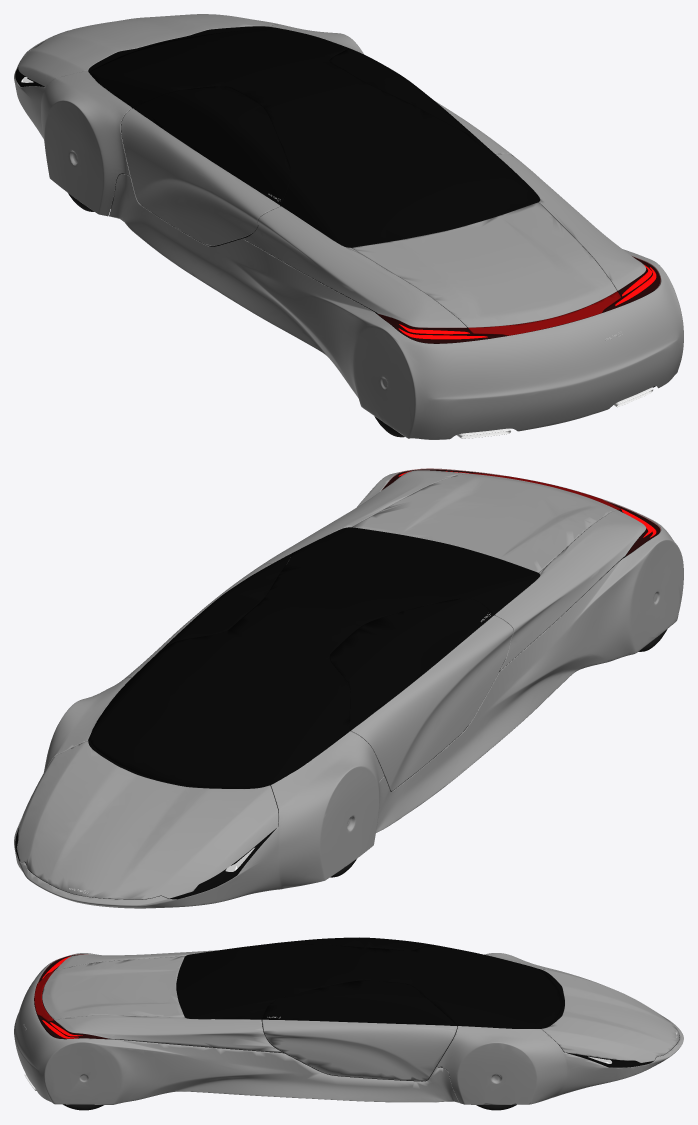
3 renders of one model, top to bottom at view 1: azimuth 30°, elevation 25°; view 2: azimuth 150°, elevation 25°; view 3: azimuth 270°, elevation 25°, orthographic. The views are drawn at different scales.
Parts seen in each view (by area): view 1: Object_11, Object_17, Object_6, Object_8, Object_7, Object_4; view 2: Object_11, Object_17, Object_7, Object_9, Object_6; view 3: Object_11, Object_17, Object_7, Object_6, Object_8, Object_9, Object_18, Object_4.
Boxes of the visible parts, x1,y1,x2,y2 form: Object_11: (14, 14, 683, 439); Object_17: (15, 27, 539, 247); Object_6: (378, 257, 660, 343); Object_8: (468, 291, 620, 335); Object_7: (22, 26, 655, 387); Object_4: (398, 265, 656, 339); Object_11: (14, 468, 683, 908); Object_17: (15, 527, 539, 899); Object_7: (25, 530, 645, 899); Object_9: (14, 818, 275, 899); Object_6: (383, 469, 660, 556); Object_11: (14, 950, 683, 1104); Object_17: (176, 937, 653, 1067); Object_7: (34, 956, 679, 1081); Object_6: (38, 954, 109, 1039); Object_8: (34, 971, 53, 1021); Object_9: (568, 1053, 653, 1067); Object_18: (63, 1104, 516, 1110); Object_4: (42, 956, 82, 1038).
Size of the model in its own units: 1.44 by 0.784 by 4.5.
Materials: 14 (1 with a texture image).
